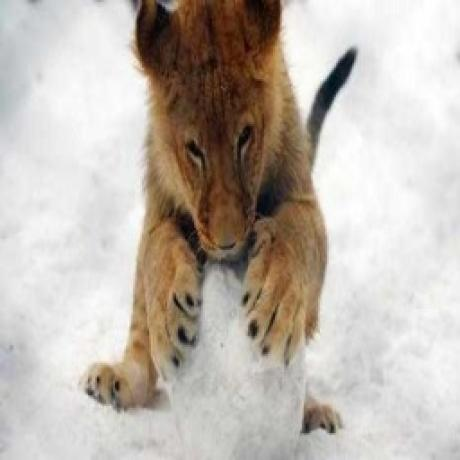Lion: (83, 0, 359, 438)
